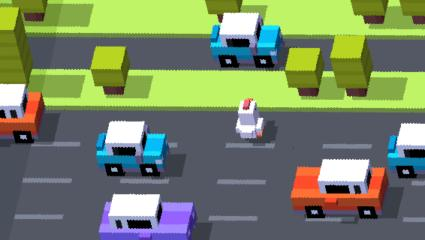hen: (234, 98, 268, 140)
obstacle: (291, 160, 388, 218), (98, 194, 199, 239), (96, 120, 169, 178), (208, 14, 282, 70), (330, 37, 376, 99), (0, 8, 35, 89), (0, 85, 49, 141), (388, 123, 425, 179), (89, 47, 130, 95), (284, 47, 323, 97), (351, 0, 390, 26), (12, 0, 51, 22), (398, 0, 425, 25), (203, 0, 244, 13)
